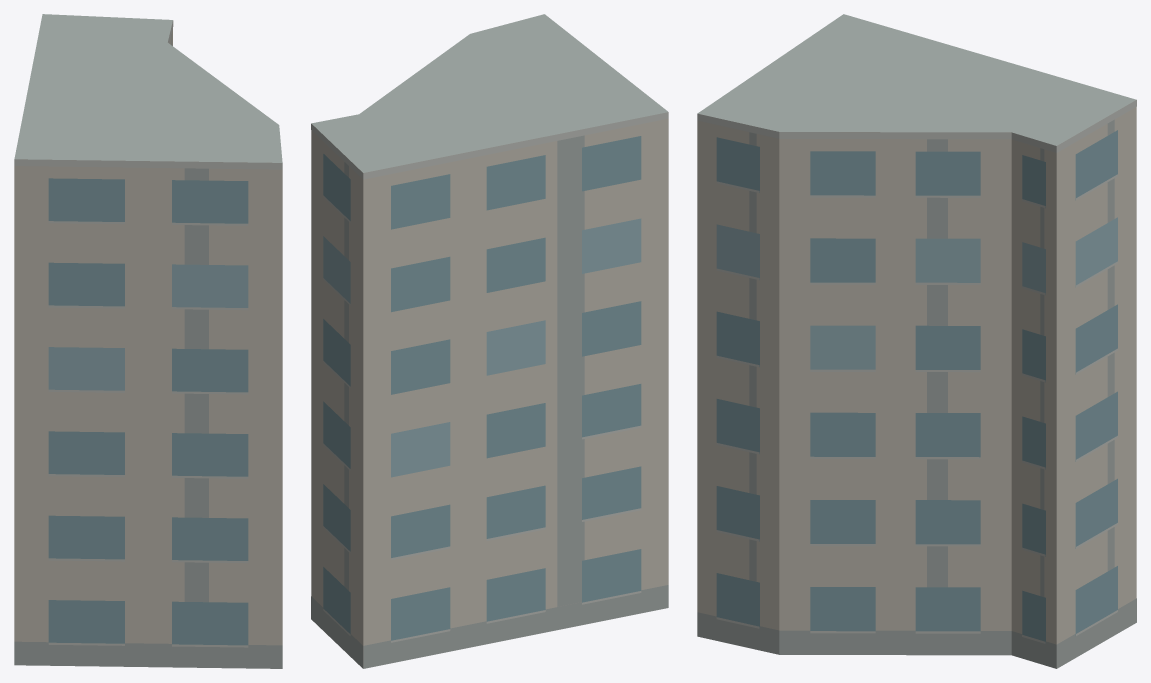
The model's file is residential-d6f64ccc-9b8c-435b-8bb5-eb8b20eb0028.glb.
3 views of the same model, side by side, from view 1: azimuth 30°, elevation 25°; view 2: azimuth 150°, elevation 25°; view 3: azimuth 270°, elevation 25° (orthographic). The views are drawn at different scales.
Parts seen in each view (by area): view 1: residential-d6f64ccc-9b8c-435b-8bb5-eb8b20eb0028.tmp; view 2: residential-d6f64ccc-9b8c-435b-8bb5-eb8b20eb0028.tmp; view 3: residential-d6f64ccc-9b8c-435b-8bb5-eb8b20eb0028.tmp.
Part boxes in pixels (x1,y1,x2,y2): residential-d6f64ccc-9b8c-435b-8bb5-eb8b20eb0028.tmp: [14, 14, 282, 668]; residential-d6f64ccc-9b8c-435b-8bb5-eb8b20eb0028.tmp: [311, 14, 668, 668]; residential-d6f64ccc-9b8c-435b-8bb5-eb8b20eb0028.tmp: [697, 14, 1136, 668].
Size of the model in its own units: 9.92 by 18.3 by 13.95.
